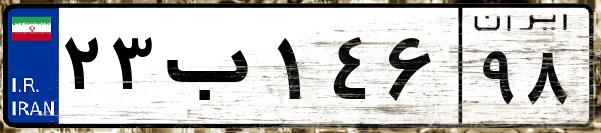1: (270, 28, 330, 110)
2: (57, 26, 110, 100)
3: (110, 28, 158, 98)
4: (330, 28, 385, 110)
6: (385, 28, 445, 110)
8: (525, 38, 570, 115)
9: (475, 38, 525, 113)
ب: (158, 20, 270, 120)
